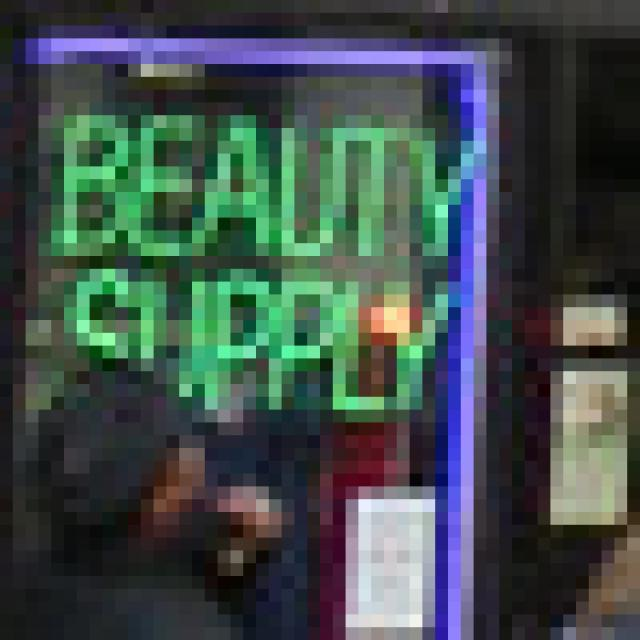no_fire: (0, 155, 509, 532)
